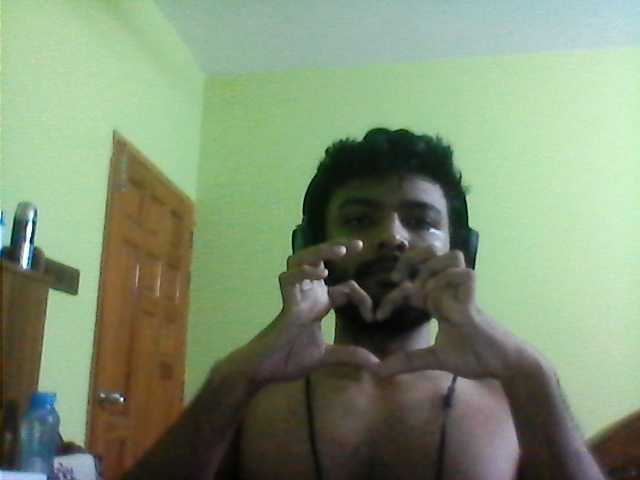Love: (252, 234, 510, 397)
